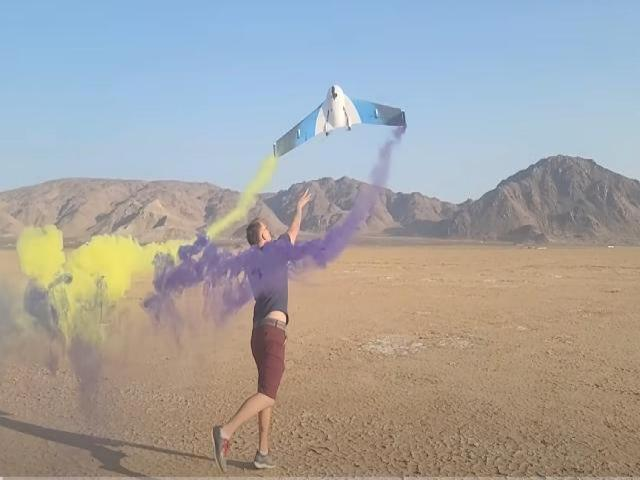iha: (270, 76, 413, 162)
